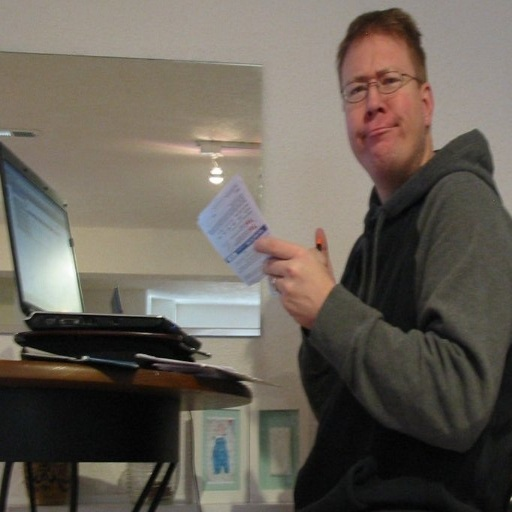hand: (247, 224, 343, 322), (309, 226, 337, 285)
